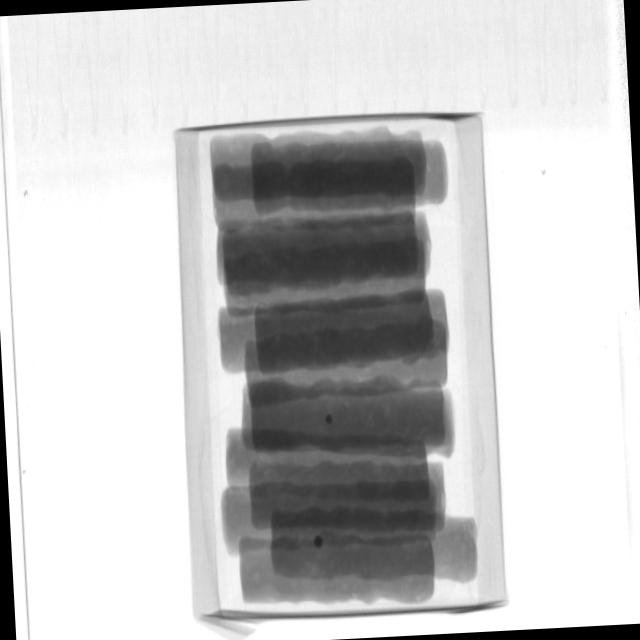ym: (316, 536, 326, 549), (326, 416, 334, 425)
